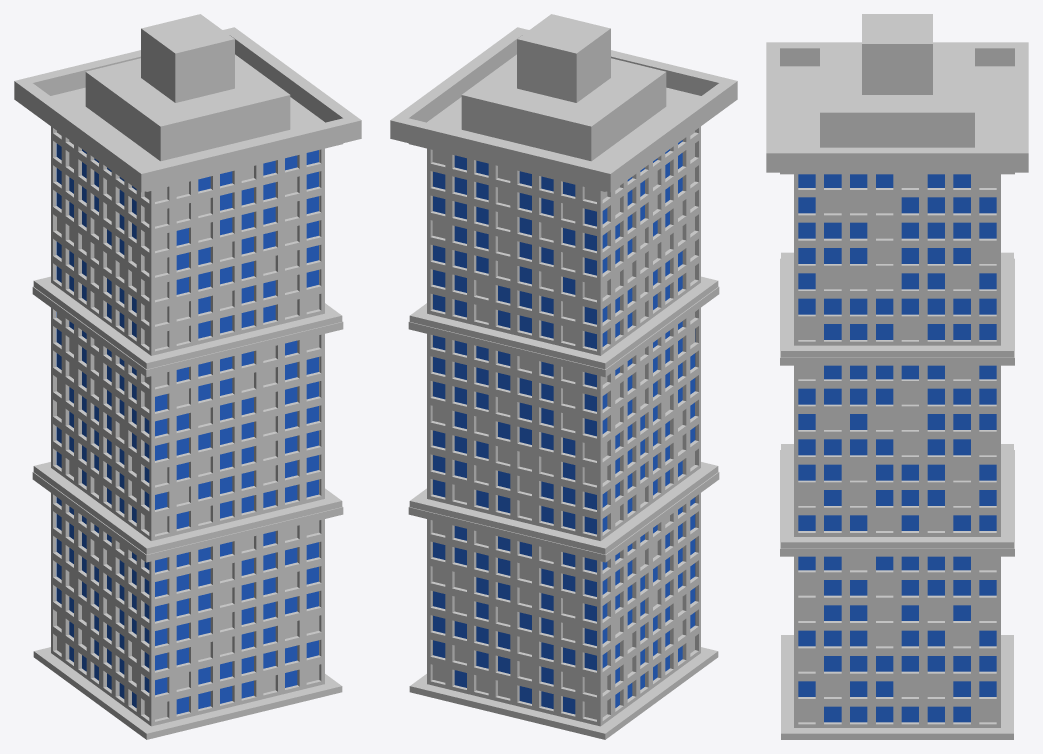
Rendered from Skyscraper_02.fbx.
3 views of the same model, side by side, from view 1: azimuth 30°, elevation 25°; view 2: azimuth 150°, elevation 25°; view 3: azimuth 270°, elevation 25° (orthographic). The views are drawn at different scales.
Parts seen in each view (by area): view 1: ApartmentBuilding_low; view 2: ApartmentBuilding_low; view 3: ApartmentBuilding_low.
Part boxes in pixels (left/top/right/bottom): ApartmentBuilding_low: left=14, top=14, right=361, bottom=739; ApartmentBuilding_low: left=390, top=14, right=737, bottom=739; ApartmentBuilding_low: left=766, top=14, right=1028, bottom=739.
Bounding box in the file's own units: 1344 × 3737 × 1344.
